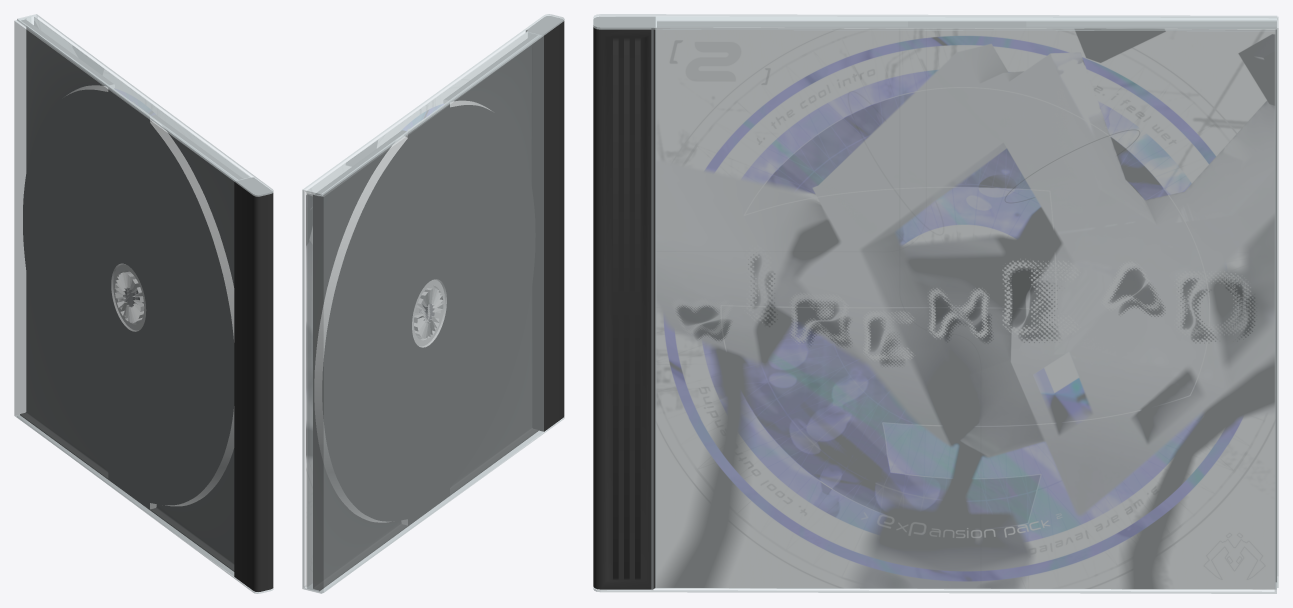
The model's file is CD2-rigged.glb.
3 views of the same model, side by side, from view 1: azimuth 30°, elevation 25°; view 2: azimuth 150°, elevation 25°; view 3: azimuth 270°, elevation 25° (orthographic). The views are drawn at different scales.
Parts seen in each view (by area): view 1: Case Back_2, Case Front_0, CD_1; view 2: Case Back_2, Case Front_0, CD_1; view 3: Case Front_0, Case Back_2.
Boxes of the visible parts, x1,y1,x2,y2 form: Case Back_2: (14, 17, 273, 591); Case Front_0: (17, 14, 273, 593); CD_1: (113, 264, 146, 330); Case Back_2: (307, 16, 564, 592); Case Front_0: (302, 14, 564, 593); CD_1: (412, 279, 444, 346); Case Front_0: (593, 14, 1277, 593); Case Back_2: (593, 16, 1278, 589).
Bounding box in the file's own units: 0.116 × 2 × 2.2.
Materials: 8 (3 with a texture image).
